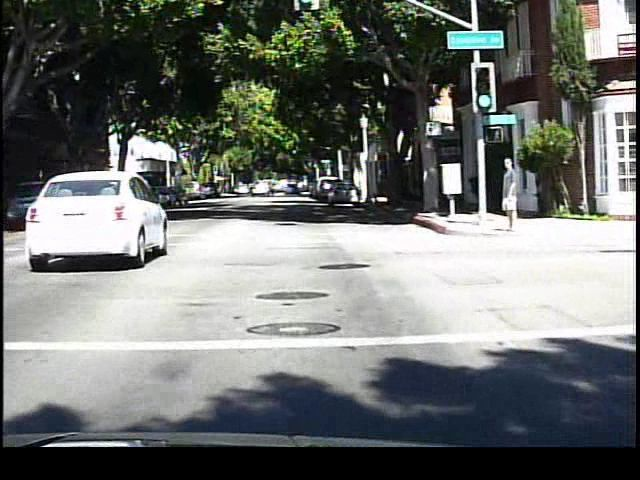person: (496, 153, 523, 235)
